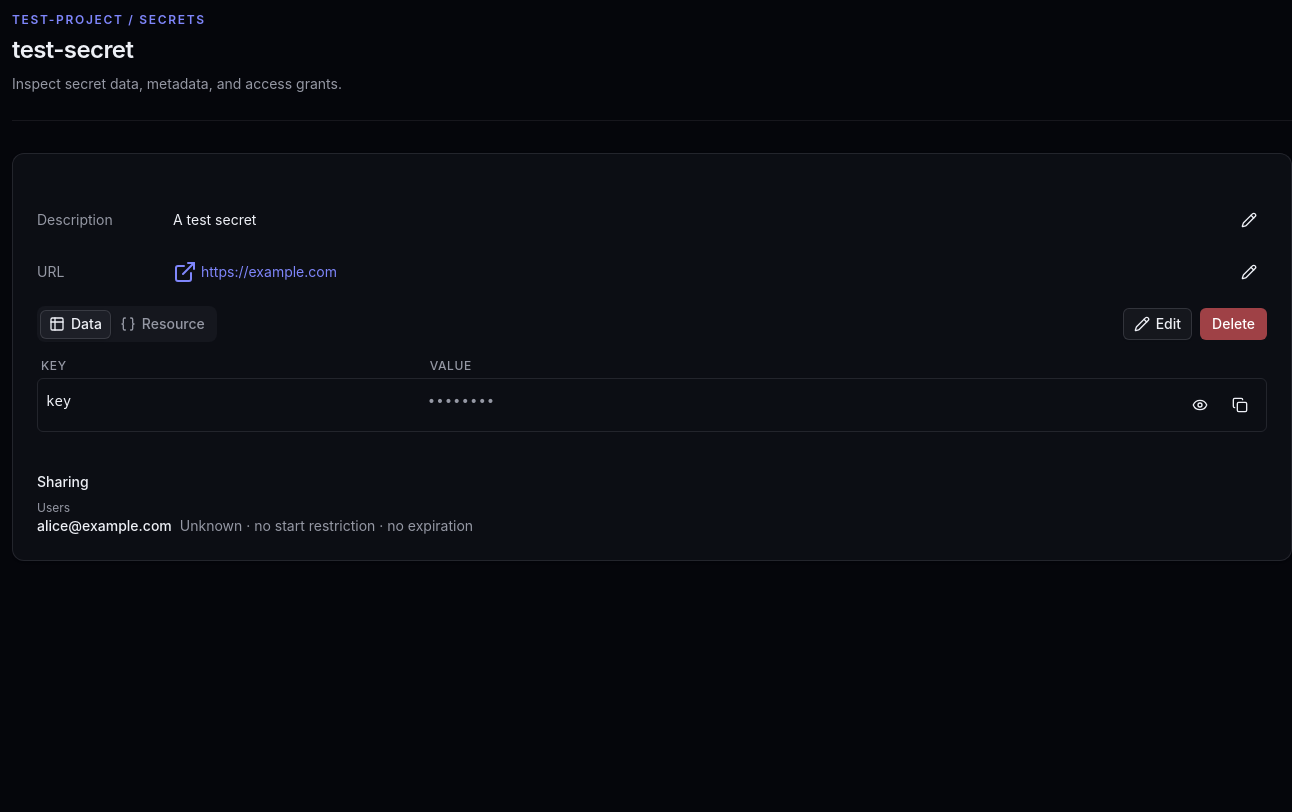
Scenario: SecretPage sharing panel › loads the raw resource through the query hook when Resource is selected
The width and height of the screenshot is (1292, 812).
Click the tab "Resource": (162,324) x1=111 y1=310 x2=214 y2=338
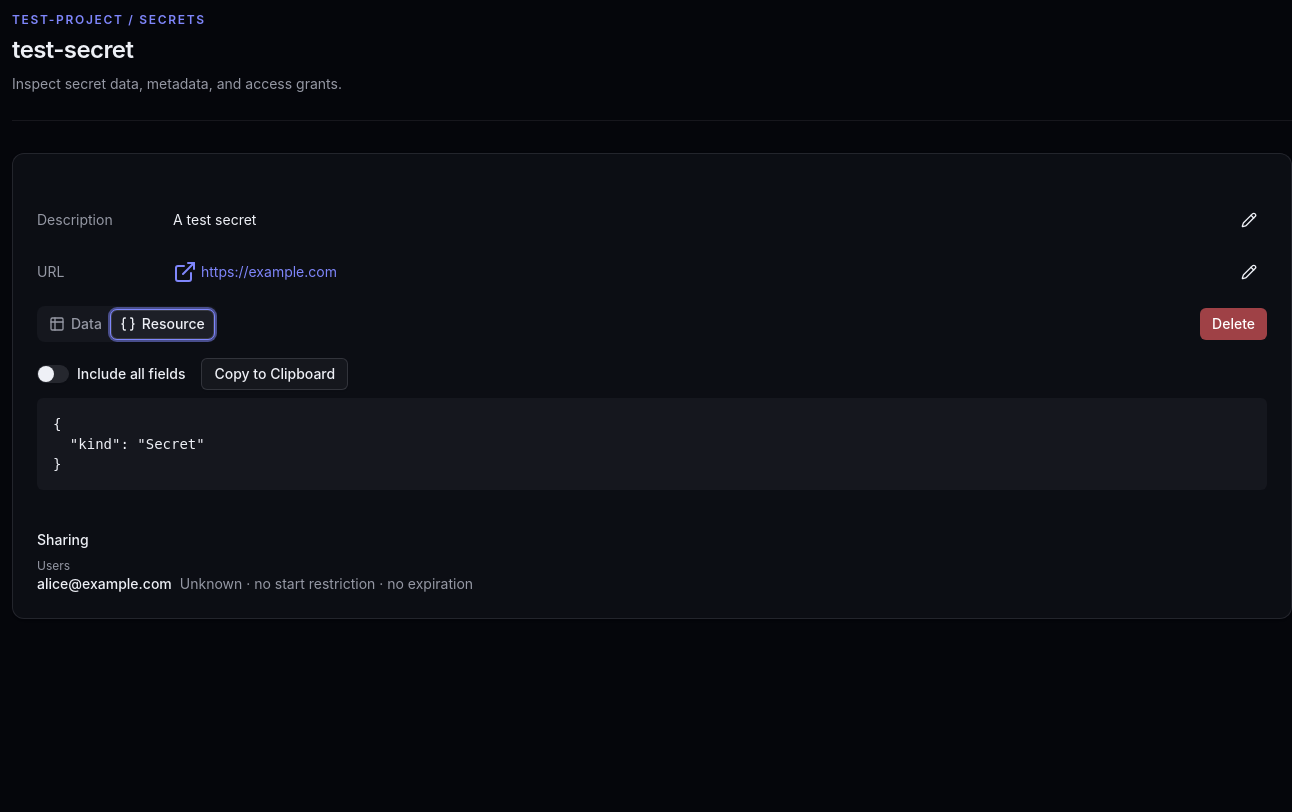
Check: the text "{ \"kind\": \"Secret\" }" is shown, box x1=37 y1=398 x2=1267 y2=490
